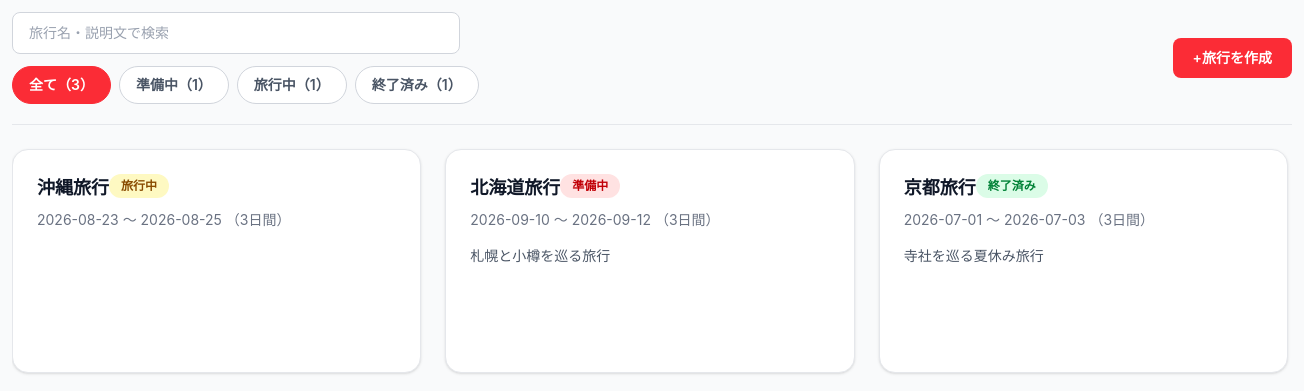
Test: TripListPage › キーワード検索とステータス絞り込みを組み合わせられる
The image size is (1304, 391).
Expected: the heading "北海道旅行" is shown, left=470, top=174, right=560, bottom=202
Type "旅行" into the search field named "キーワードで旅行を検索".
click(236, 33); type("旅行")  # box left=12, top=12, right=460, bottom=54
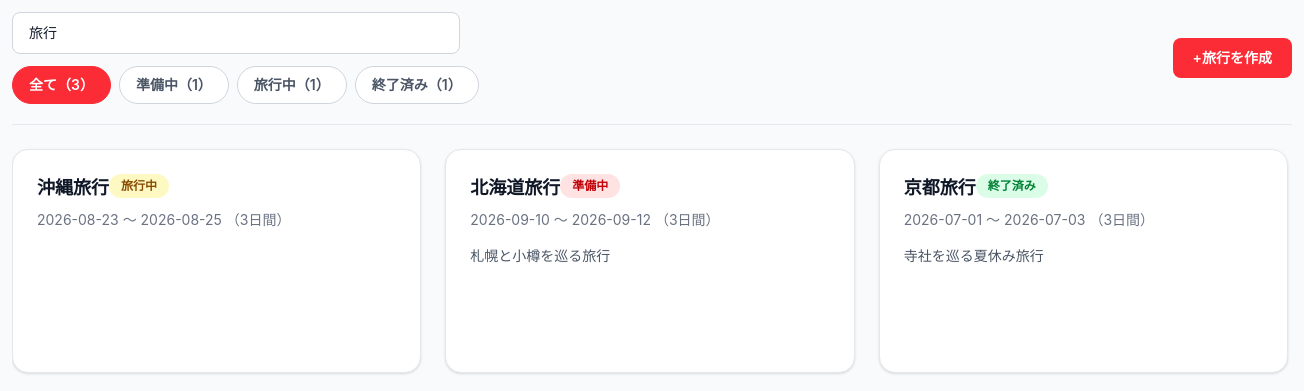
Click the button "準備中（1）".
click(174, 85)  # box left=119, top=66, right=229, bottom=104
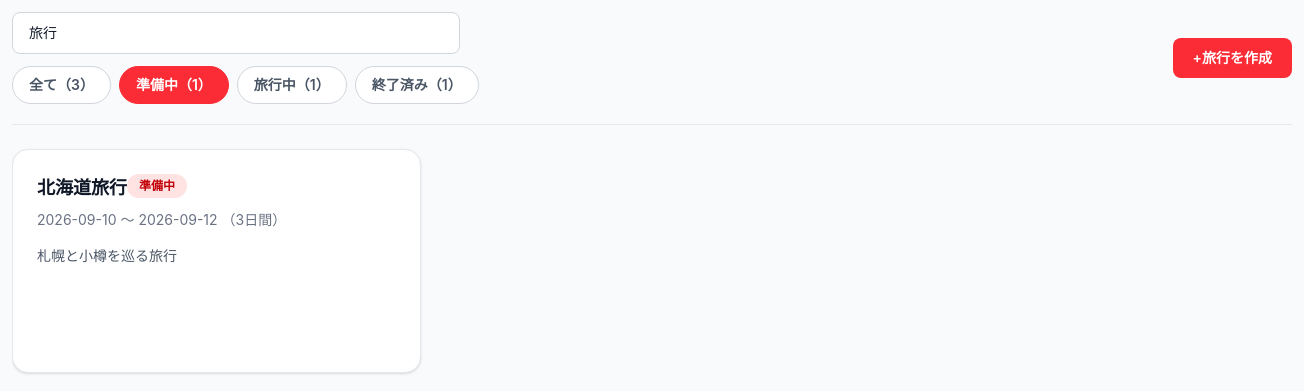
Expected: the heading "北海道旅行" is shown, left=37, top=174, right=127, bottom=202
Now the button "沖縄旅行" is gone
Now the button "京都旅行" is gone
